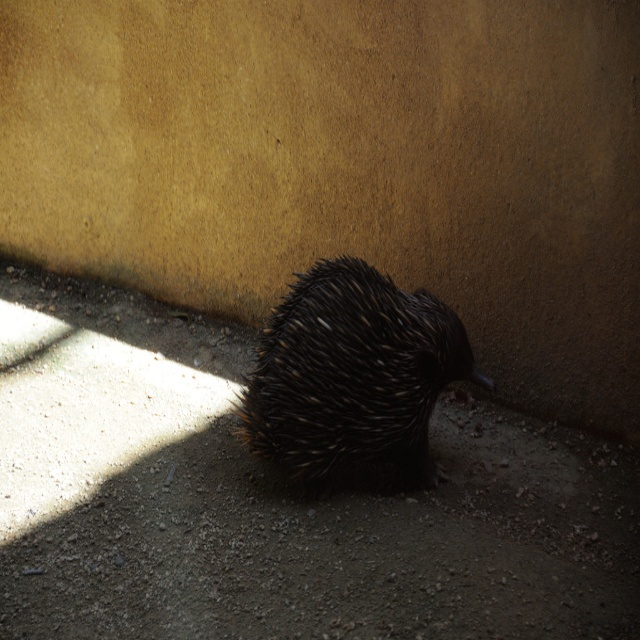Hedgehog: (226, 252, 496, 486)
